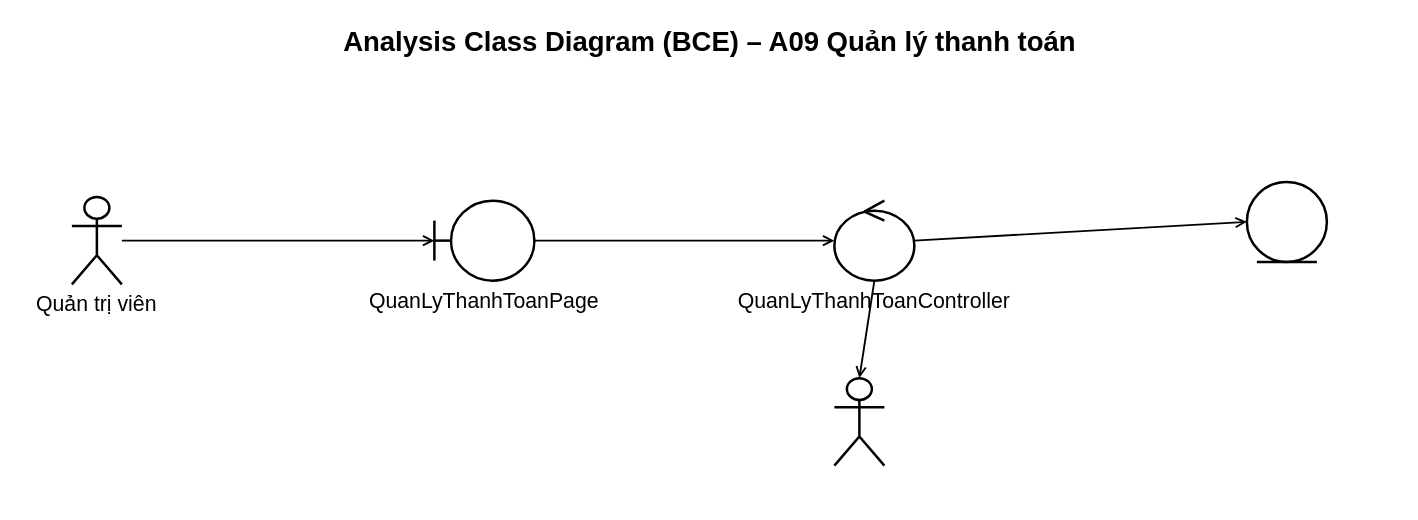
The diagram is 1418 pixels wide and 520 high, and some of its shapes have lost their labels. Here are the shapes that lost their labels. From the top down, the centre of each, then its label:
At (1286,221): "ThanhToan".
At (858,421): "Cổng thanh toán".
